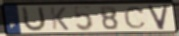5: (73, 5, 95, 33)
8: (99, 5, 121, 32)
C: (123, 6, 148, 30)
K: (48, 6, 70, 31)
U: (21, 5, 47, 33)
V: (146, 3, 170, 31)
